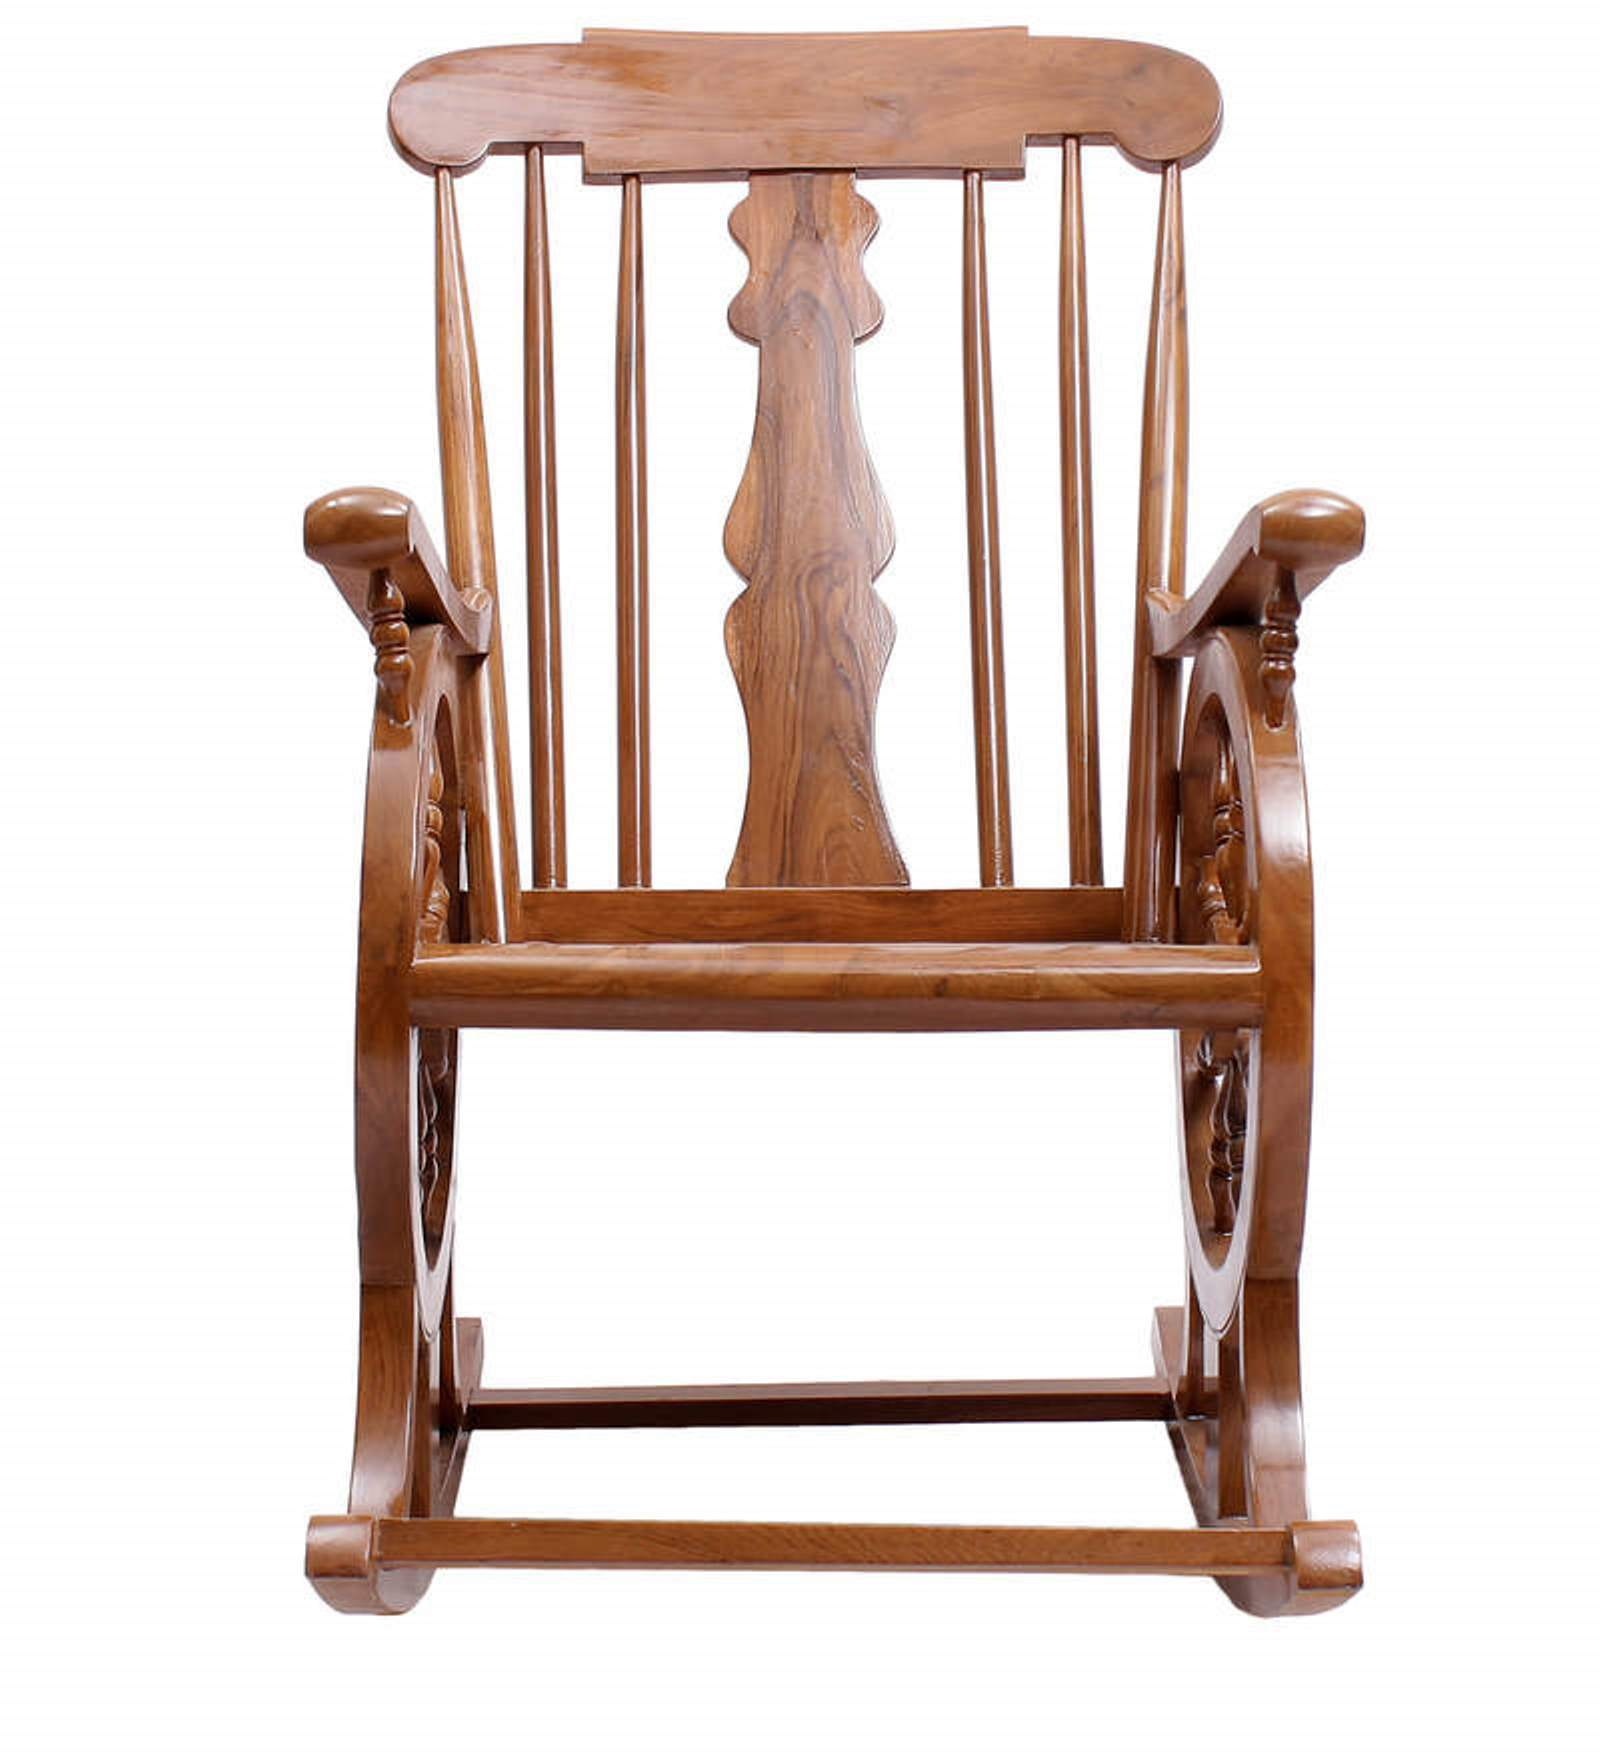Chelmsford Teak Wood Rocking Chair in Composite Teak Finish by Finesse: (248, 17, 1402, 1656)
